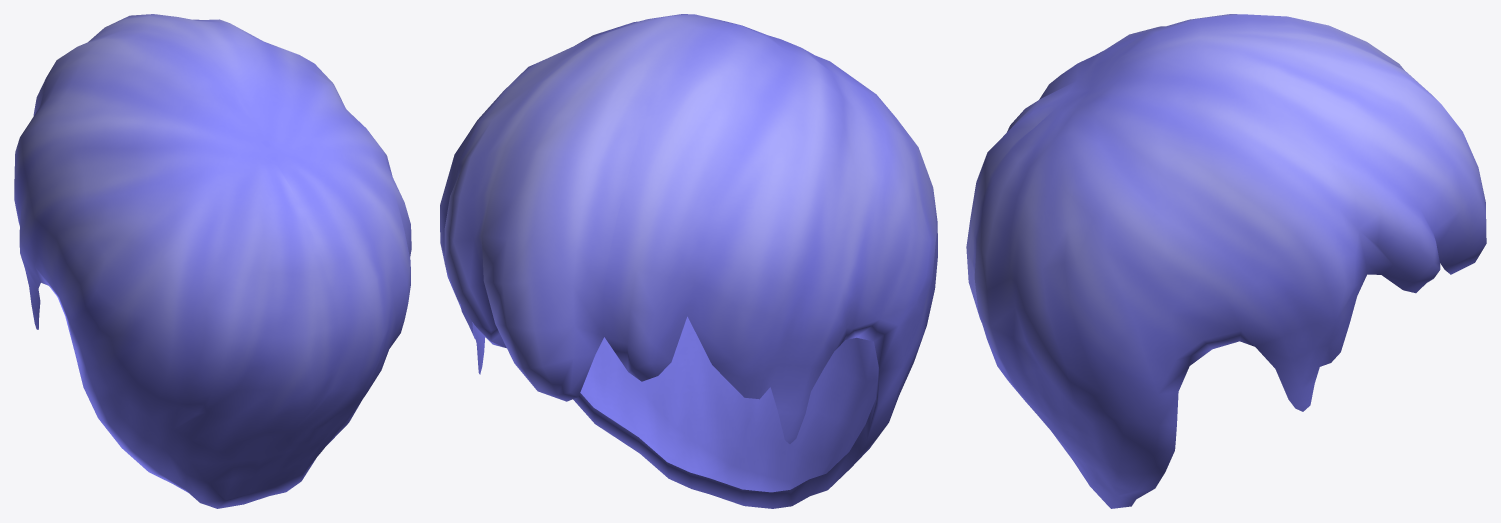
The model's file is Hair_Male_001_textured_sky.glb.
The picture shows the model from 3 angles, left to right: view 1: azimuth 30°, elevation 25°; view 2: azimuth 150°, elevation 25°; view 3: azimuth 270°, elevation 25°; orthographic projection. The views are drawn at different scales.
Visible parts, largest first — view 1: Hair_Male_001; view 2: Hair_Male_001; view 3: Hair_Male_001.
Boxes of the visible parts, x1,y1,x2,y2 form: Hair_Male_001: (14, 14, 411, 508); Hair_Male_001: (440, 14, 937, 508); Hair_Male_001: (966, 14, 1486, 508).
Bounding box in the file's own units: 0.189 × 0.2389 × 0.2448.
Materials: 1 (1 with a texture image).
